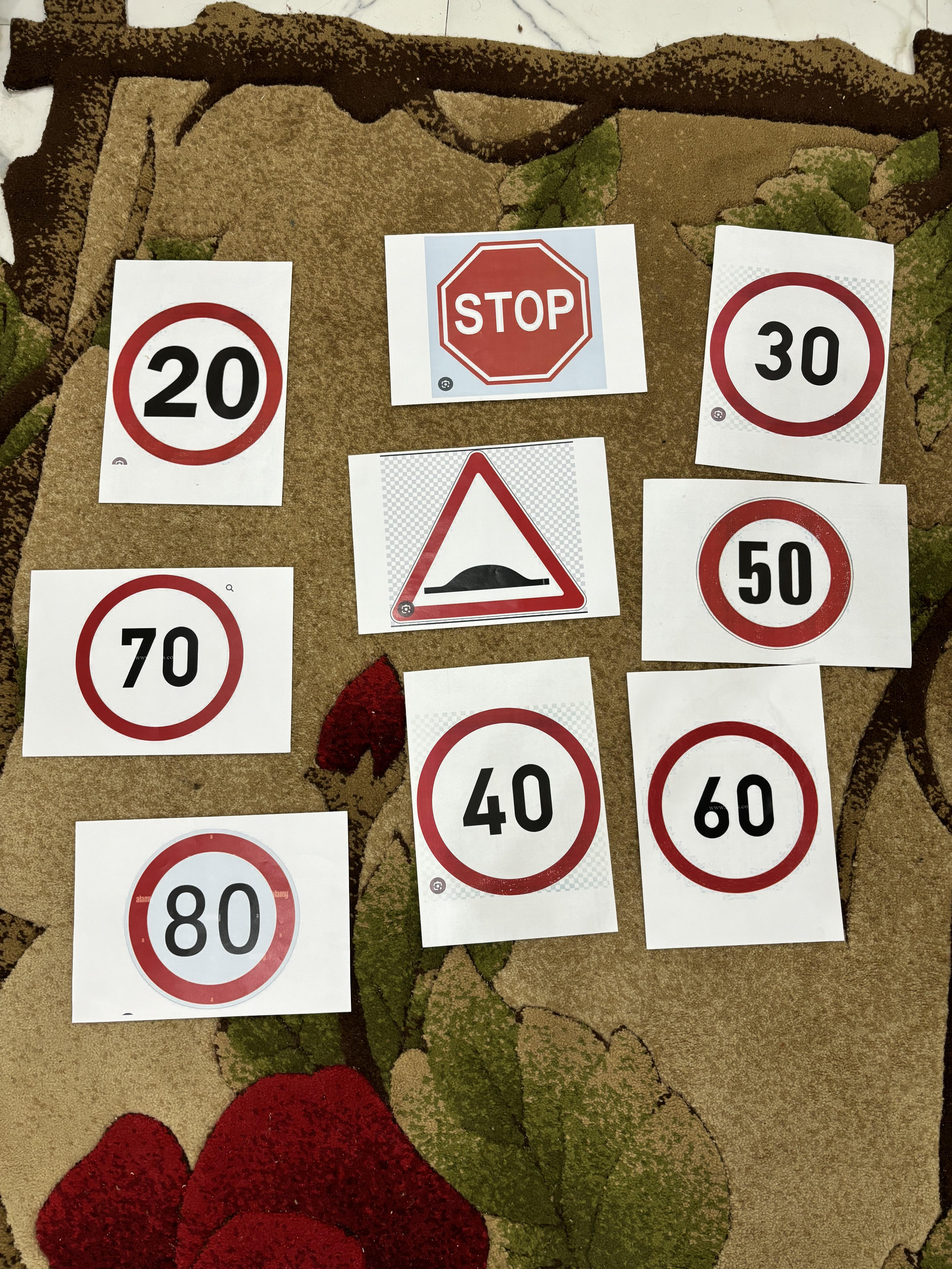20-Speed: (112, 298, 285, 461)
30-speed: (707, 263, 893, 447)
40-Speed: (416, 705, 609, 897)
50-Speed: (696, 491, 859, 662)
60-Speed: (638, 714, 820, 901)
70-Speed: (65, 565, 253, 749)
80-Speed: (120, 825, 298, 1007)
Hump: (380, 449, 589, 625)
Stop: (409, 223, 609, 396)
